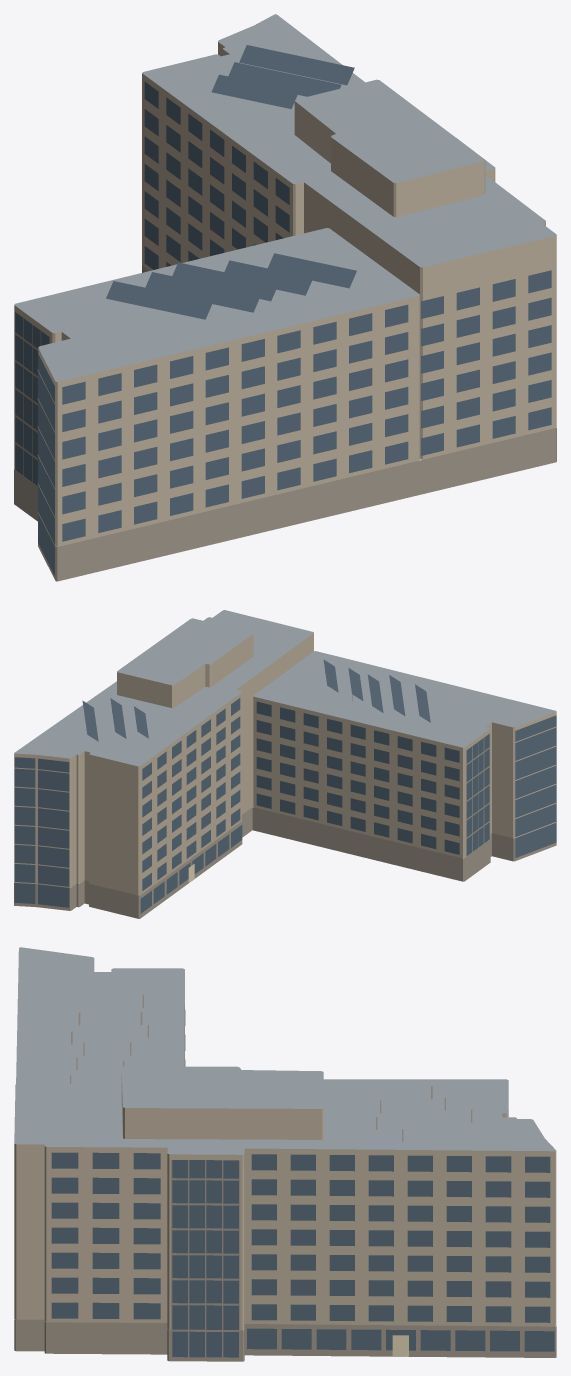
The model's file is dc-au-cassell-hall.glb.
3 views of the same model, one above another, from view 1: azimuth 30°, elevation 25°; view 2: azimuth 150°, elevation 25°; view 3: azimuth 270°, elevation 25° (orthographic). The views are drawn at different scales.
Visible parts, largest first — view 1: Cassell Hall; view 2: Cassell Hall; view 3: Cassell Hall.
Part boxes in pixels (bbox=[...]): Cassell Hall: bbox=[14, 14, 556, 581]; Cassell Hall: bbox=[14, 610, 556, 918]; Cassell Hall: bbox=[14, 947, 556, 1361].
Size of the model in its own units: 58.04 by 27.6 by 57.09.
